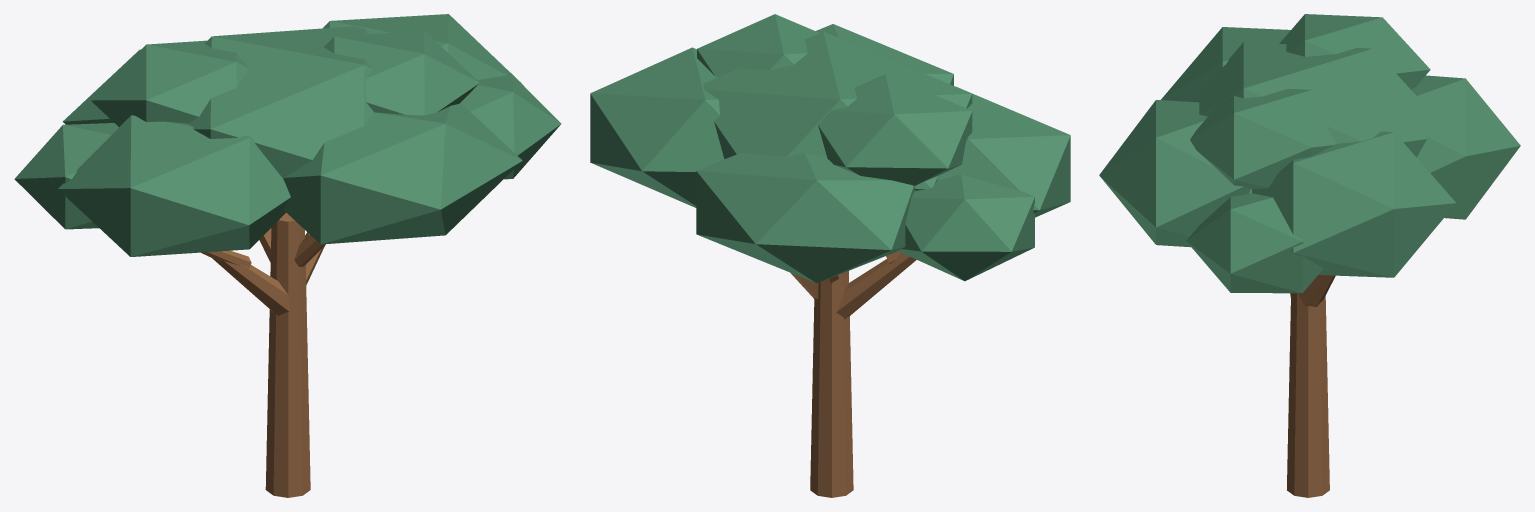
Rendered from LM_TREE_RainTree.glb.
The picture shows the model from 3 angles, left to right: view 1: azimuth 30°, elevation 25°; view 2: azimuth 150°, elevation 25°; view 3: azimuth 270°, elevation 25°; orthographic projection. The views are drawn at different scales.
Visible parts, largest first — view 1: LM_TREE_RainTree; view 2: LM_TREE_RainTree; view 3: LM_TREE_RainTree.
Part boxes in pixels (<box>): LM_TREE_RainTree: <box>14,14,561,497</box>; LM_TREE_RainTree: <box>590,14,1070,497</box>; LM_TREE_RainTree: <box>1099,14,1520,497</box>.
Size of the model in its own units: 7.96 by 7.25 by 6.55.
